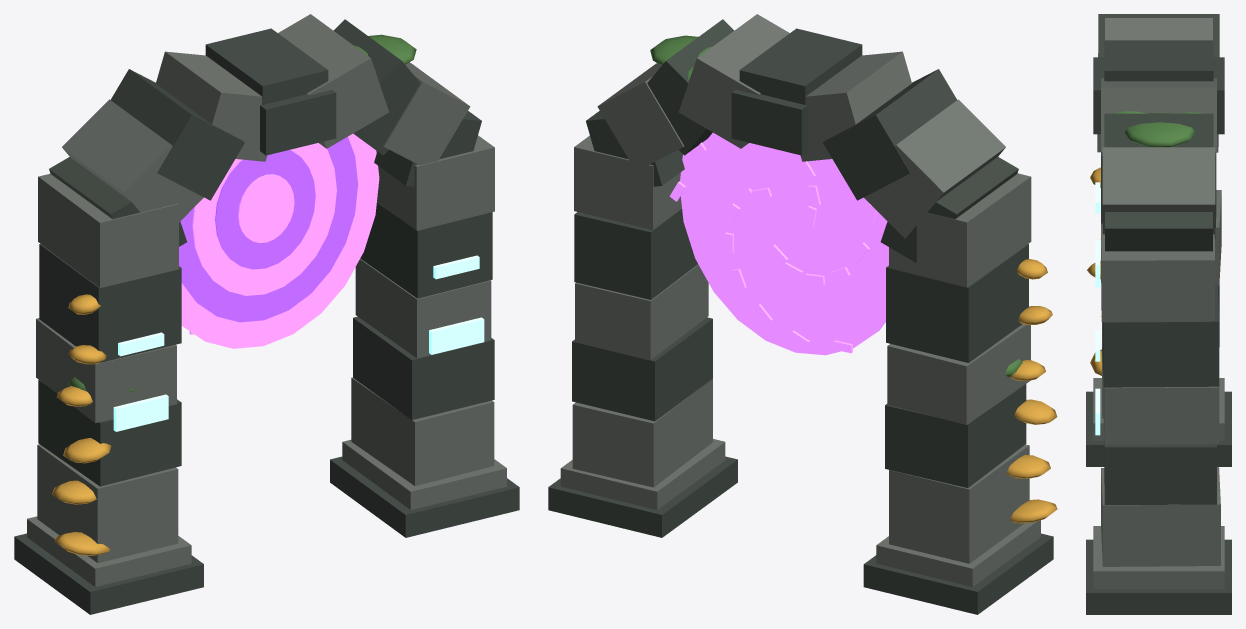
The model's file is Build_Lobby_ExpeditionGate.glb.
3 views of the same model, side by side, from view 1: azimuth 30°, elevation 25°; view 2: azimuth 150°, elevation 25°; view 3: azimuth 270°, elevation 25° (orthographic). The views are drawn at different scales.
Visible parts, largest first — view 1: Build_Lobby_ExpeditionGate; view 2: Build_Lobby_ExpeditionGate; view 3: Build_Lobby_ExpeditionGate.
Boxes of the visible parts, <box> form: Build_Lobby_ExpeditionGate: <box>14,14,519,614</box>; Build_Lobby_ExpeditionGate: <box>548,14,1057,614</box>; Build_Lobby_ExpeditionGate: <box>1086,14,1231,614</box>.
Bounding box in the file's own units: 20.32 × 20.96 × 6.
